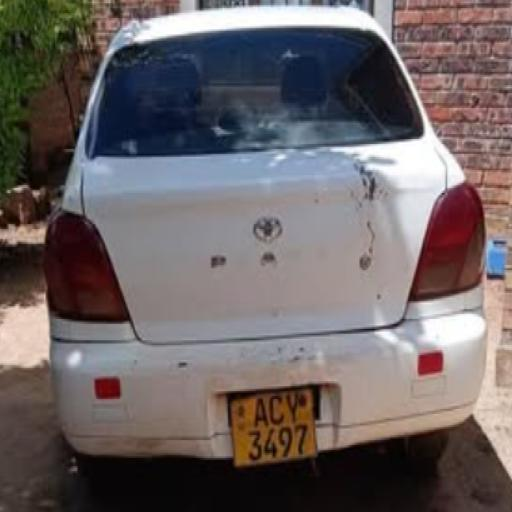number-plates: (237, 392, 312, 467)
